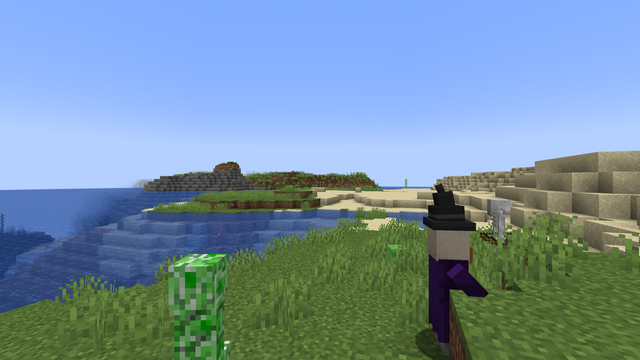creepers: (160, 245, 235, 358)
slimes: (387, 243, 405, 265)
sorcieres: (425, 218, 472, 357)
squelettes: (484, 199, 512, 267)
